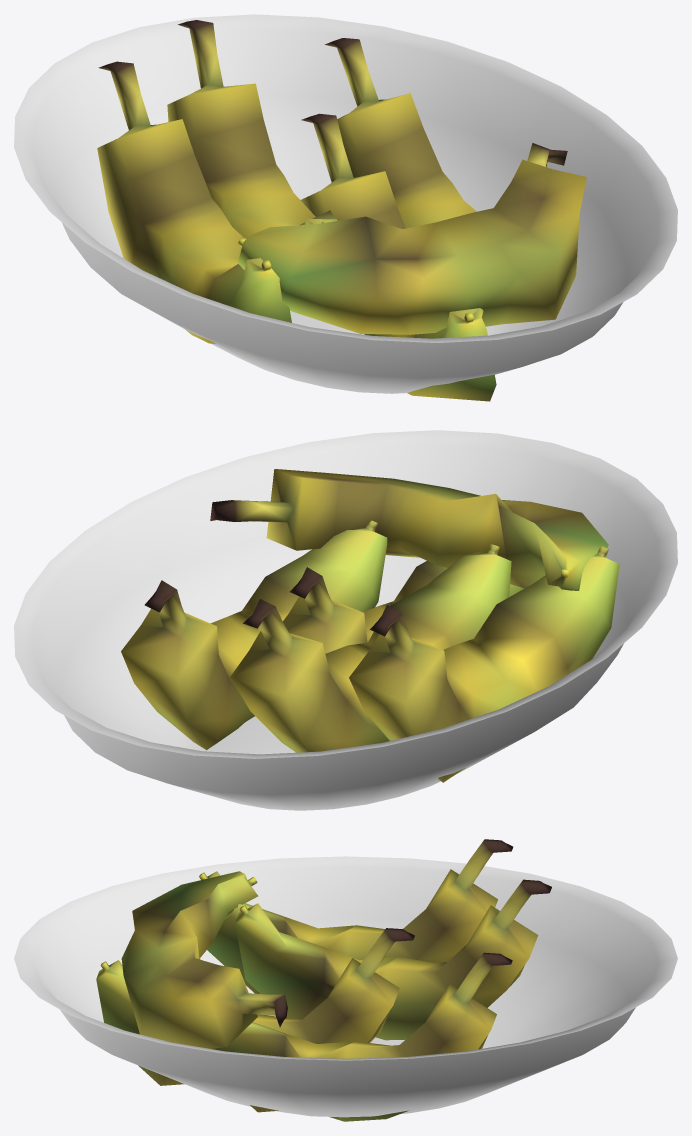
Rendered from banana_bowl_v2.glb.
3 renders of one model, top to bottom at view 1: azimuth 30°, elevation 25°; view 2: azimuth 150°, elevation 25°; view 3: azimuth 270°, elevation 25°, orthographic. The views are drawn at different scales.
Visible parts, largest first — view 1: Sphere, Cube.001, Cube.003, Cube.002, Cube, Cube.004; view 2: Sphere, Cube.003, Cube.001, Cube.002, Cube, Cube.004; view 3: Sphere, Cube.001, Cube.002, Cube.003, Cube.004, Cube.
Part boxes in pixels (bbox=[...]): Sphere: bbox=[14, 14, 677, 393]; Cube.001: bbox=[237, 143, 586, 334]; Cube.003: bbox=[97, 61, 291, 343]; Cube.002: bbox=[167, 20, 337, 238]; Cube: bbox=[325, 38, 476, 228]; Cube.004: bbox=[300, 113, 496, 401]; Sphere: bbox=[14, 430, 677, 810]; Cube.003: bbox=[349, 546, 619, 782]; Cube.001: bbox=[210, 469, 608, 590]; Cube.002: bbox=[230, 544, 511, 752]; Cube: bbox=[121, 520, 387, 750]; Cube.004: bbox=[283, 561, 524, 653]; Sphere: bbox=[14, 856, 677, 1117]; Cube.001: bbox=[121, 871, 287, 1048]; Cube.002: bbox=[235, 879, 551, 1040]; Cube.003: bbox=[199, 839, 513, 993]; Cube.004: bbox=[96, 928, 414, 1085]; Cube: bbox=[212, 952, 512, 1121].
Bounding box in the file's own units: 86.87 × 37.71 × 119.
